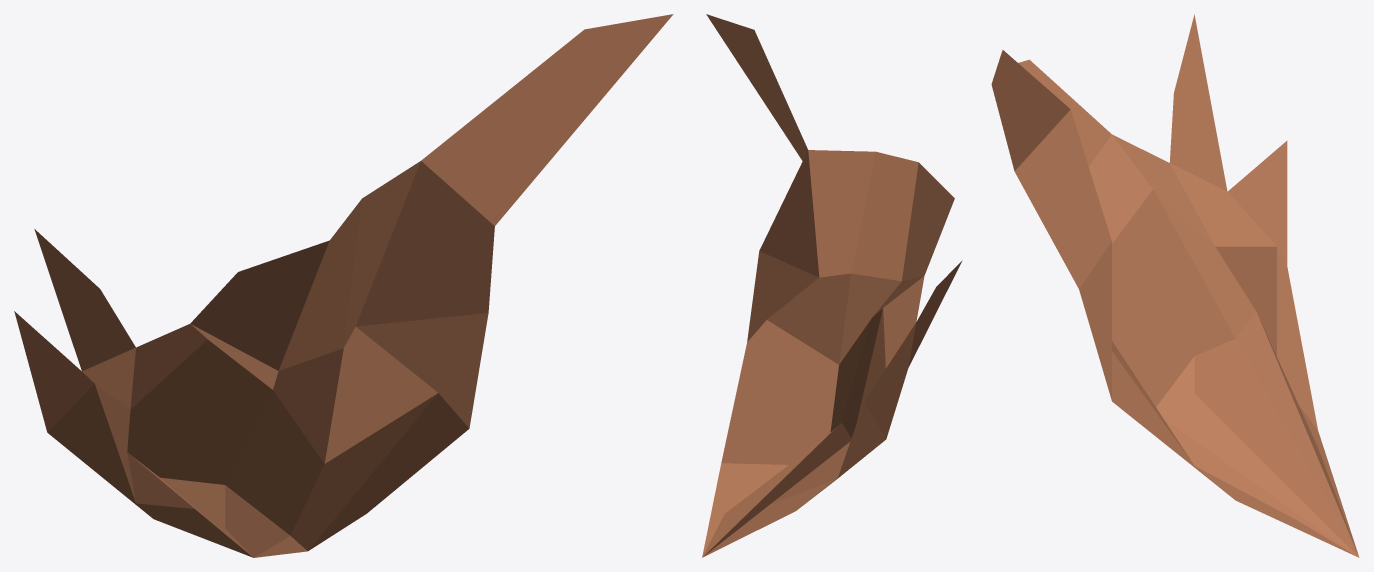
File: Corner Bottom E.fbx
3 views of the same model, side by side, from view 1: azimuth 30°, elevation 25°; view 2: azimuth 150°, elevation 25°; view 3: azimuth 270°, elevation 25° (orthographic). The views are drawn at different scales.
Parts seen in each view (by area): view 1: Corner Bottom E; view 2: Corner Bottom E; view 3: Corner Bottom E.
Part boxes in pixels (<box>): Corner Bottom E: <box>14,14,673,557</box>; Corner Bottom E: <box>702,14,962,557</box>; Corner Bottom E: <box>991,14,1359,557</box>.
Size of the model in its own units: 63.08 by 75 by 44.61.
